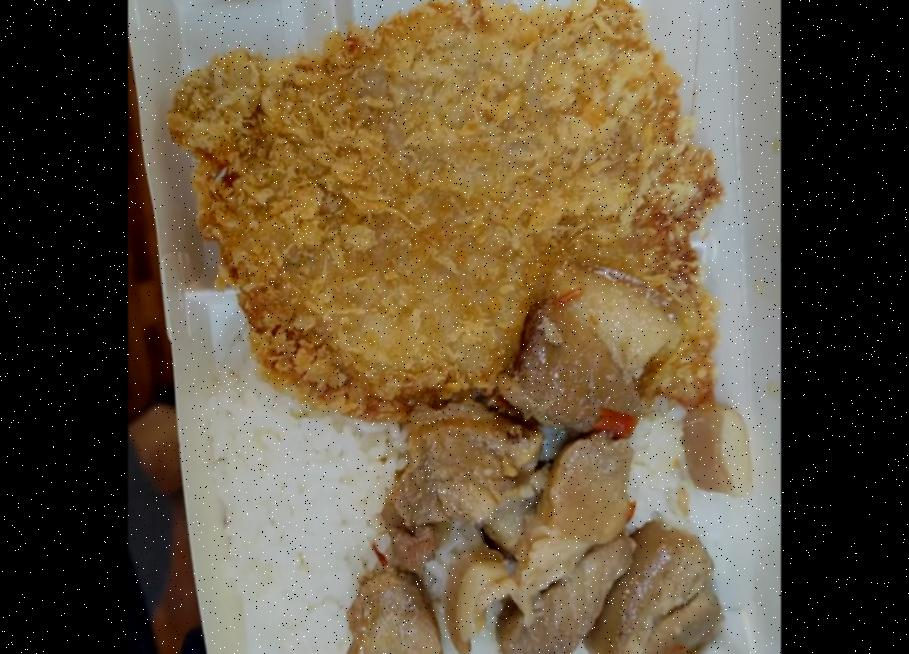big grilled chicken leg: (127, 0, 778, 654)
big herbal chicken leg: (206, 306, 715, 654)
braised pork: (167, 0, 721, 431), (345, 278, 745, 654)
